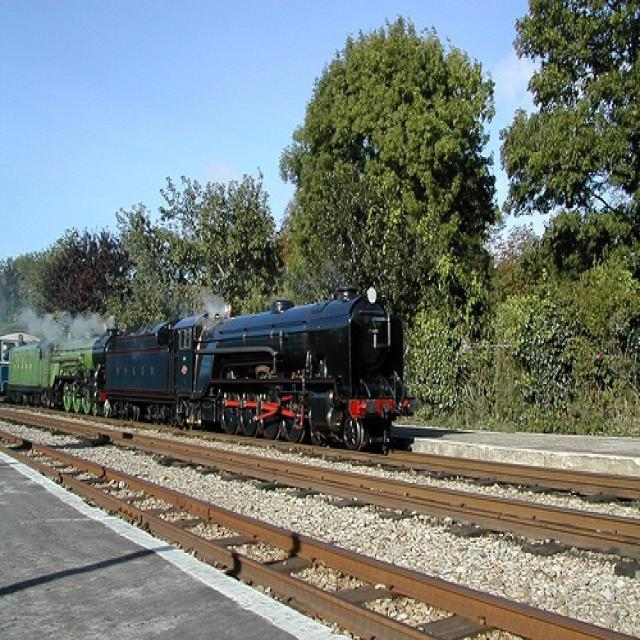train: (2, 288, 410, 442)
